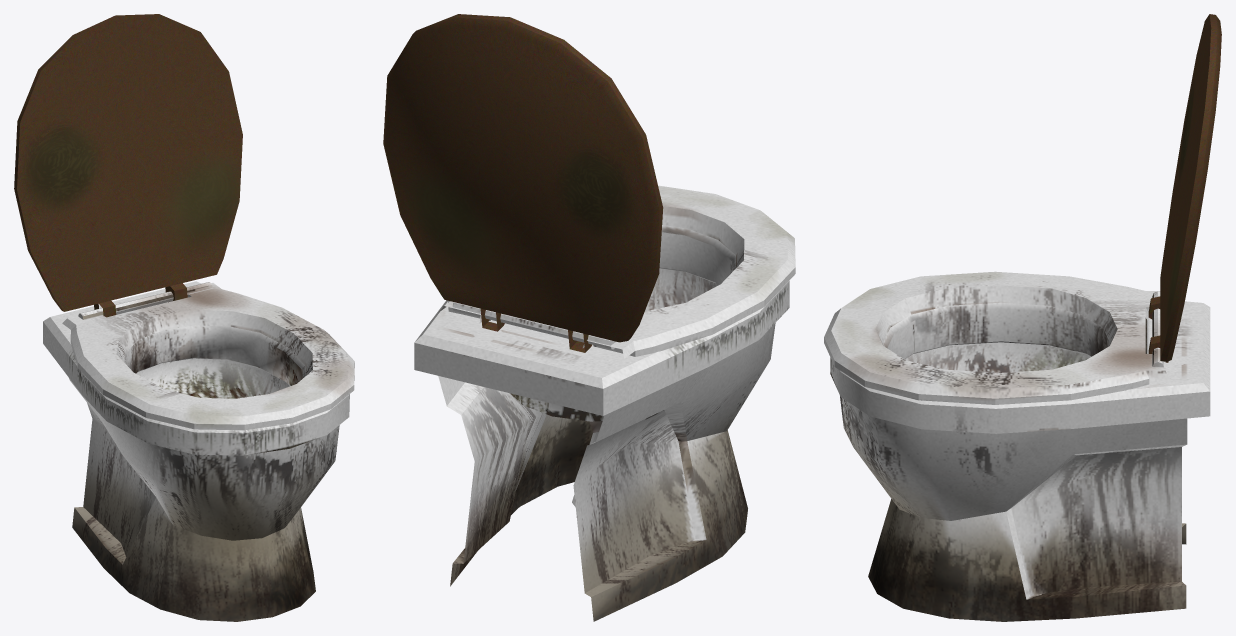
The model's file is ToiletOpened.fbx.
3 renders of one model, left to right at view 1: azimuth 30°, elevation 25°; view 2: azimuth 150°, elevation 25°; view 3: azimuth 270°, elevation 25°, orthographic. The views are drawn at different scales.
Parts seen in each view (by area): view 1: polySurface827.007, polySurface827.006; view 2: polySurface827.007, polySurface827.006; view 3: polySurface827.007, polySurface827.006.
Boxes of the visible parts, x1,y1,x2,y2 form: polySurface827.007: (43, 281, 354, 621); polySurface827.006: (14, 14, 242, 317); polySurface827.007: (414, 185, 795, 621); polySurface827.006: (383, 14, 663, 352); polySurface827.007: (824, 271, 1210, 621); polySurface827.006: (1148, 14, 1221, 362).
Size of the model in its own units: 111 by 227 by 149.
2 materials, 2 textured.
